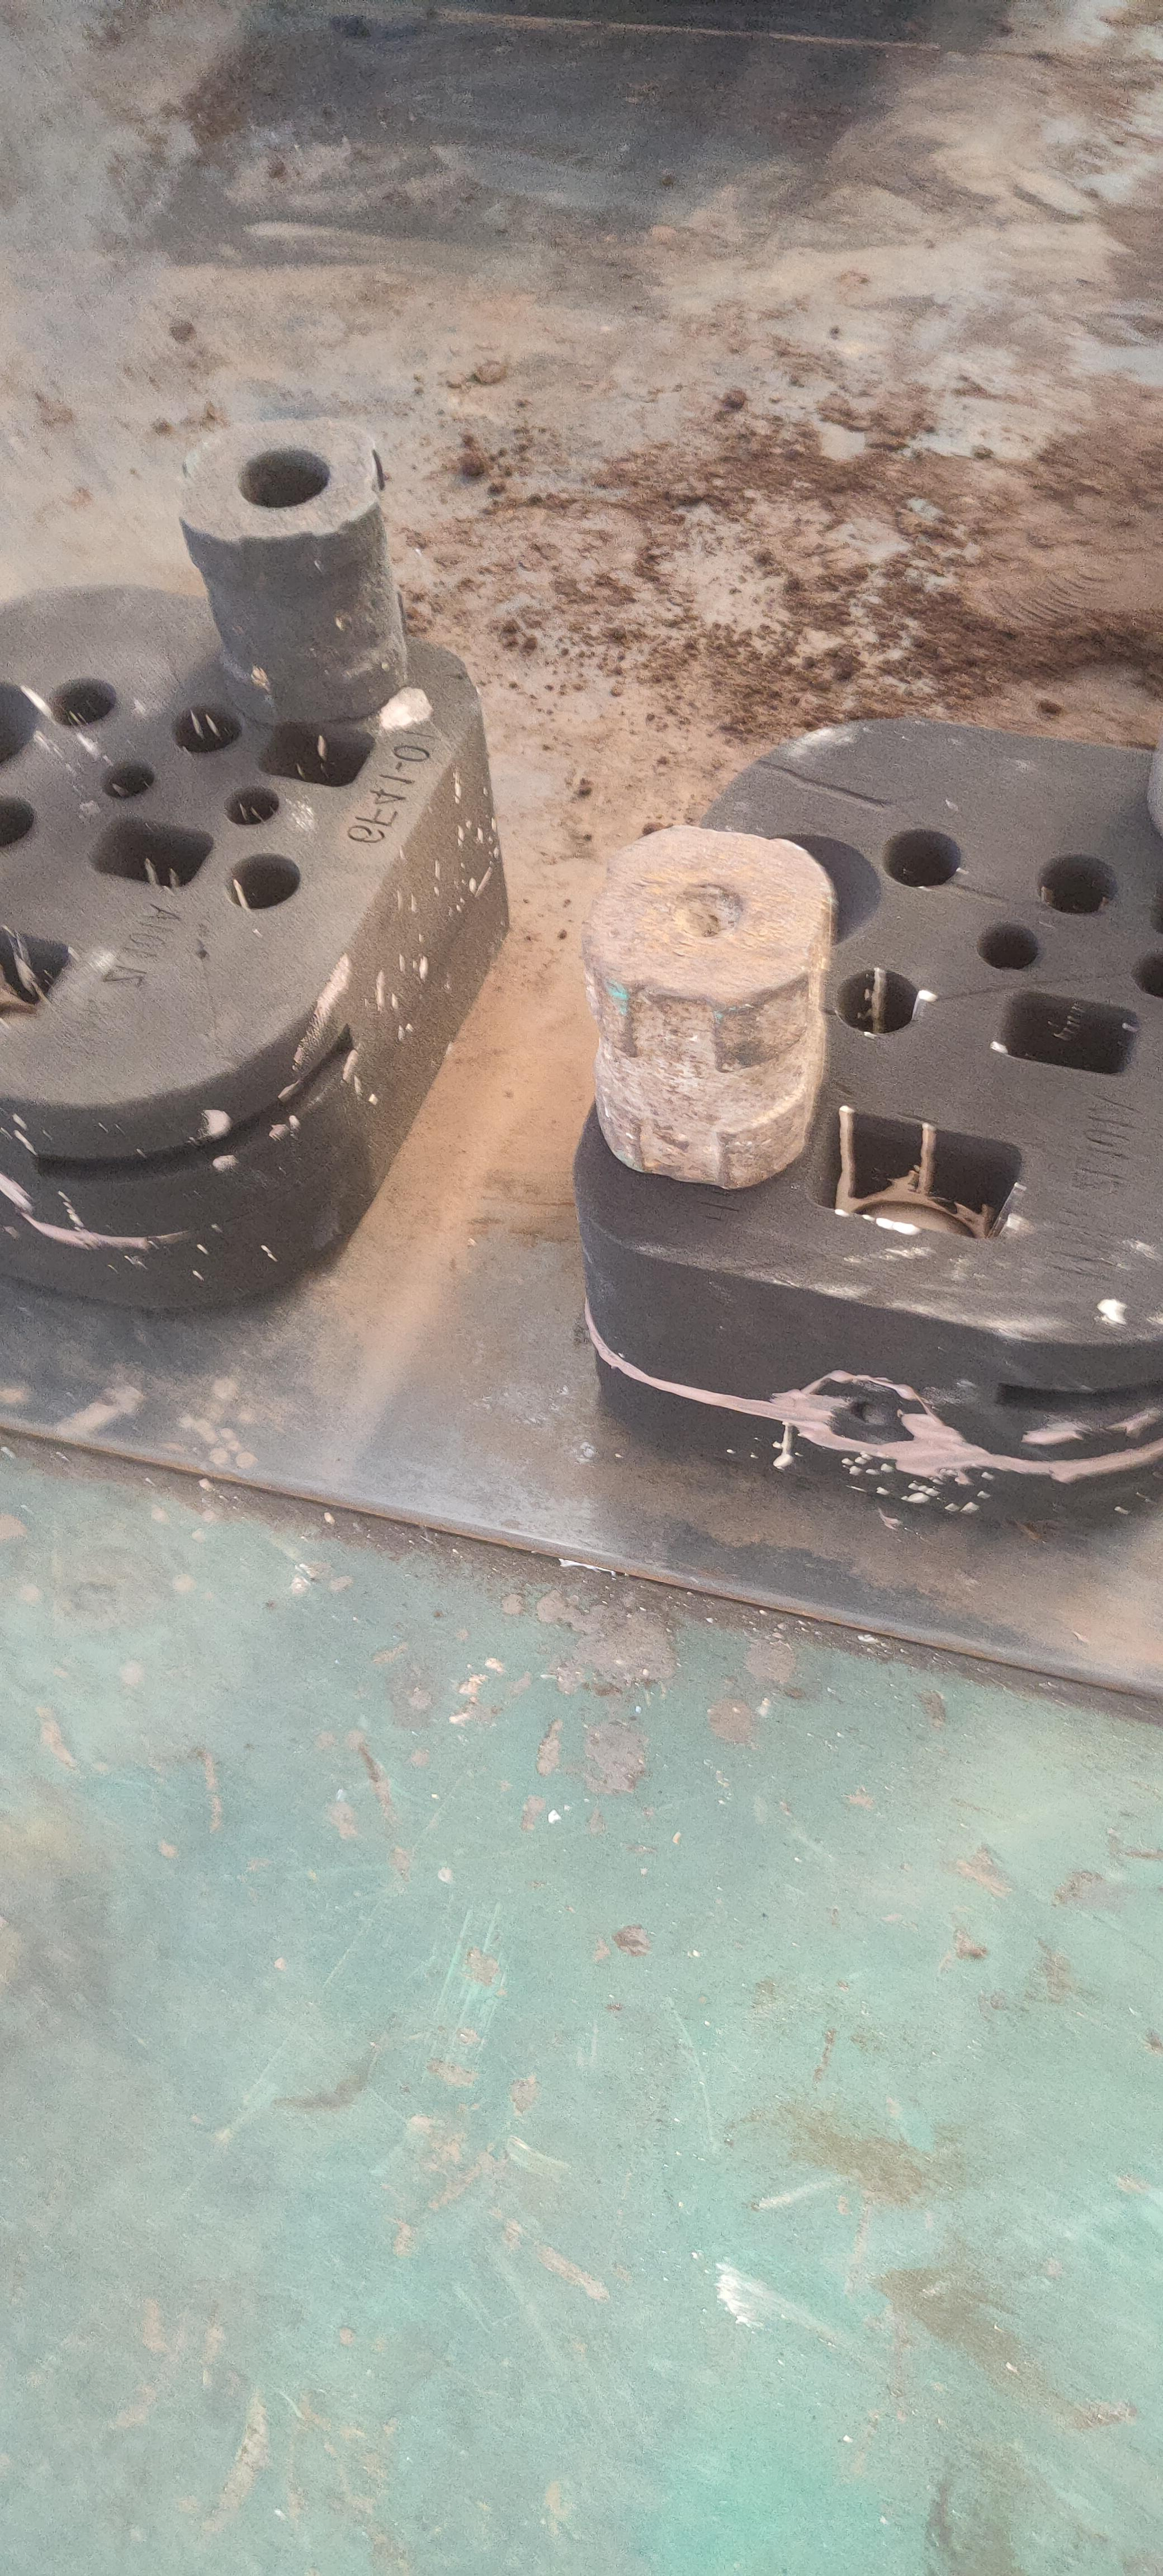pouring hole: (744, 835, 882, 953), (0, 682, 38, 767)
